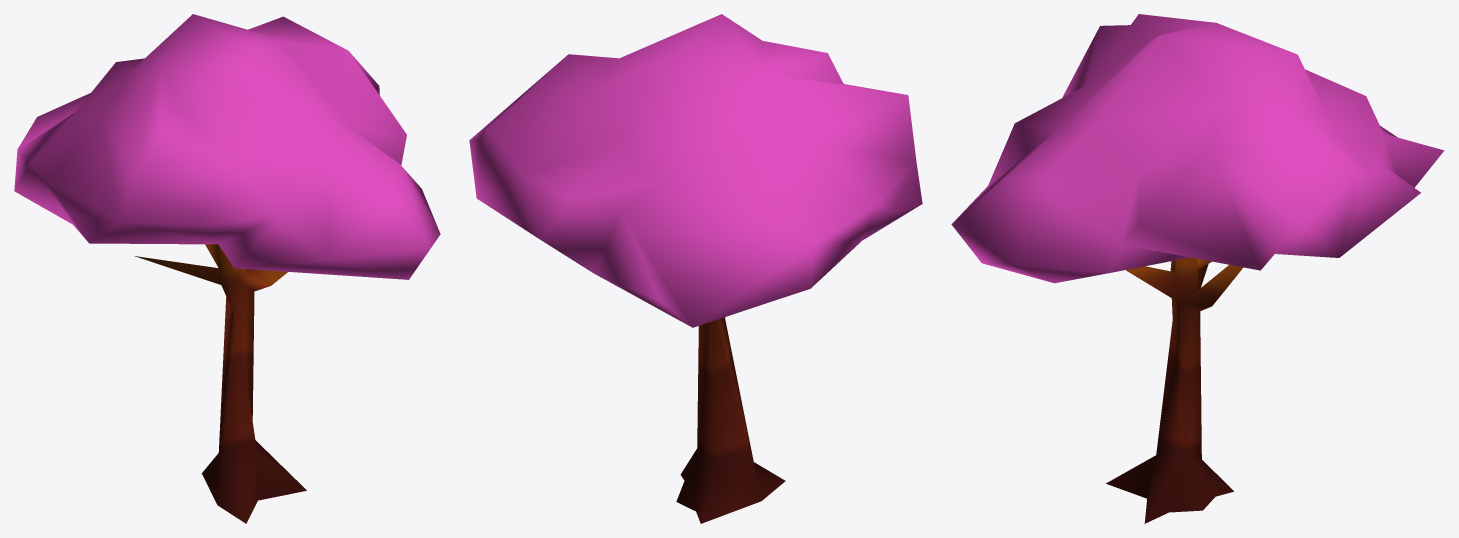
File: tree.fbx
3 renders of one model, left to right at view 1: azimuth 30°, elevation 25°; view 2: azimuth 150°, elevation 25°; view 3: azimuth 270°, elevation 25°, orthographic. The views are drawn at different scales.
Parts seen in each view (by area): view 1: Tree.001_LOD2; view 2: Tree.001_LOD2; view 3: Tree.001_LOD2.
Part boxes in pixels (left/top/right/bottom): Tree.001_LOD2: left=14, top=14, right=440, bottom=523; Tree.001_LOD2: left=469, top=14, right=922, bottom=523; Tree.001_LOD2: left=951, top=14, right=1444, bottom=523.
Bounding box in the file's own units: 2.56 × 3.07 × 2.95.
